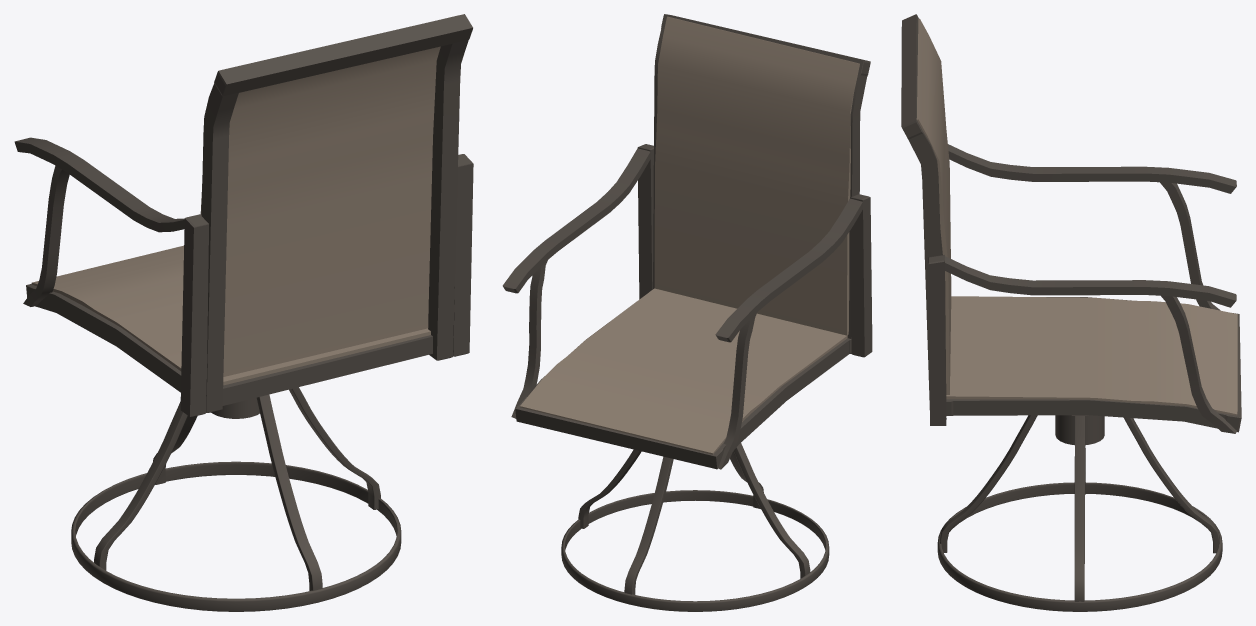
Rendered from FancyChair_01 (Updated).fbx.
3 renders of one model, left to right at view 1: azimuth 30°, elevation 25°; view 2: azimuth 150°, elevation 25°; view 3: azimuth 270°, elevation 25°, orthographic. The views are drawn at different scales.
Parts seen in each view (by area): view 1: FancyChair_01; view 2: FancyChair_01; view 3: FancyChair_01.
Part boxes in pixels (bbox=[...]): FancyChair_01: bbox=[14, 14, 473, 611]; FancyChair_01: bbox=[502, 14, 872, 611]; FancyChair_01: bbox=[901, 14, 1241, 611].
Size of the model in its own units: 5.96 by 11.08 by 6.96.
